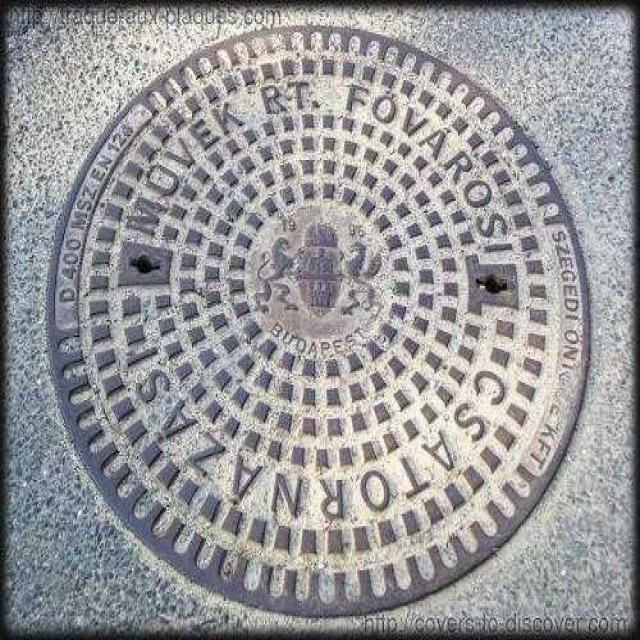manhole: (50, 27, 590, 616)
